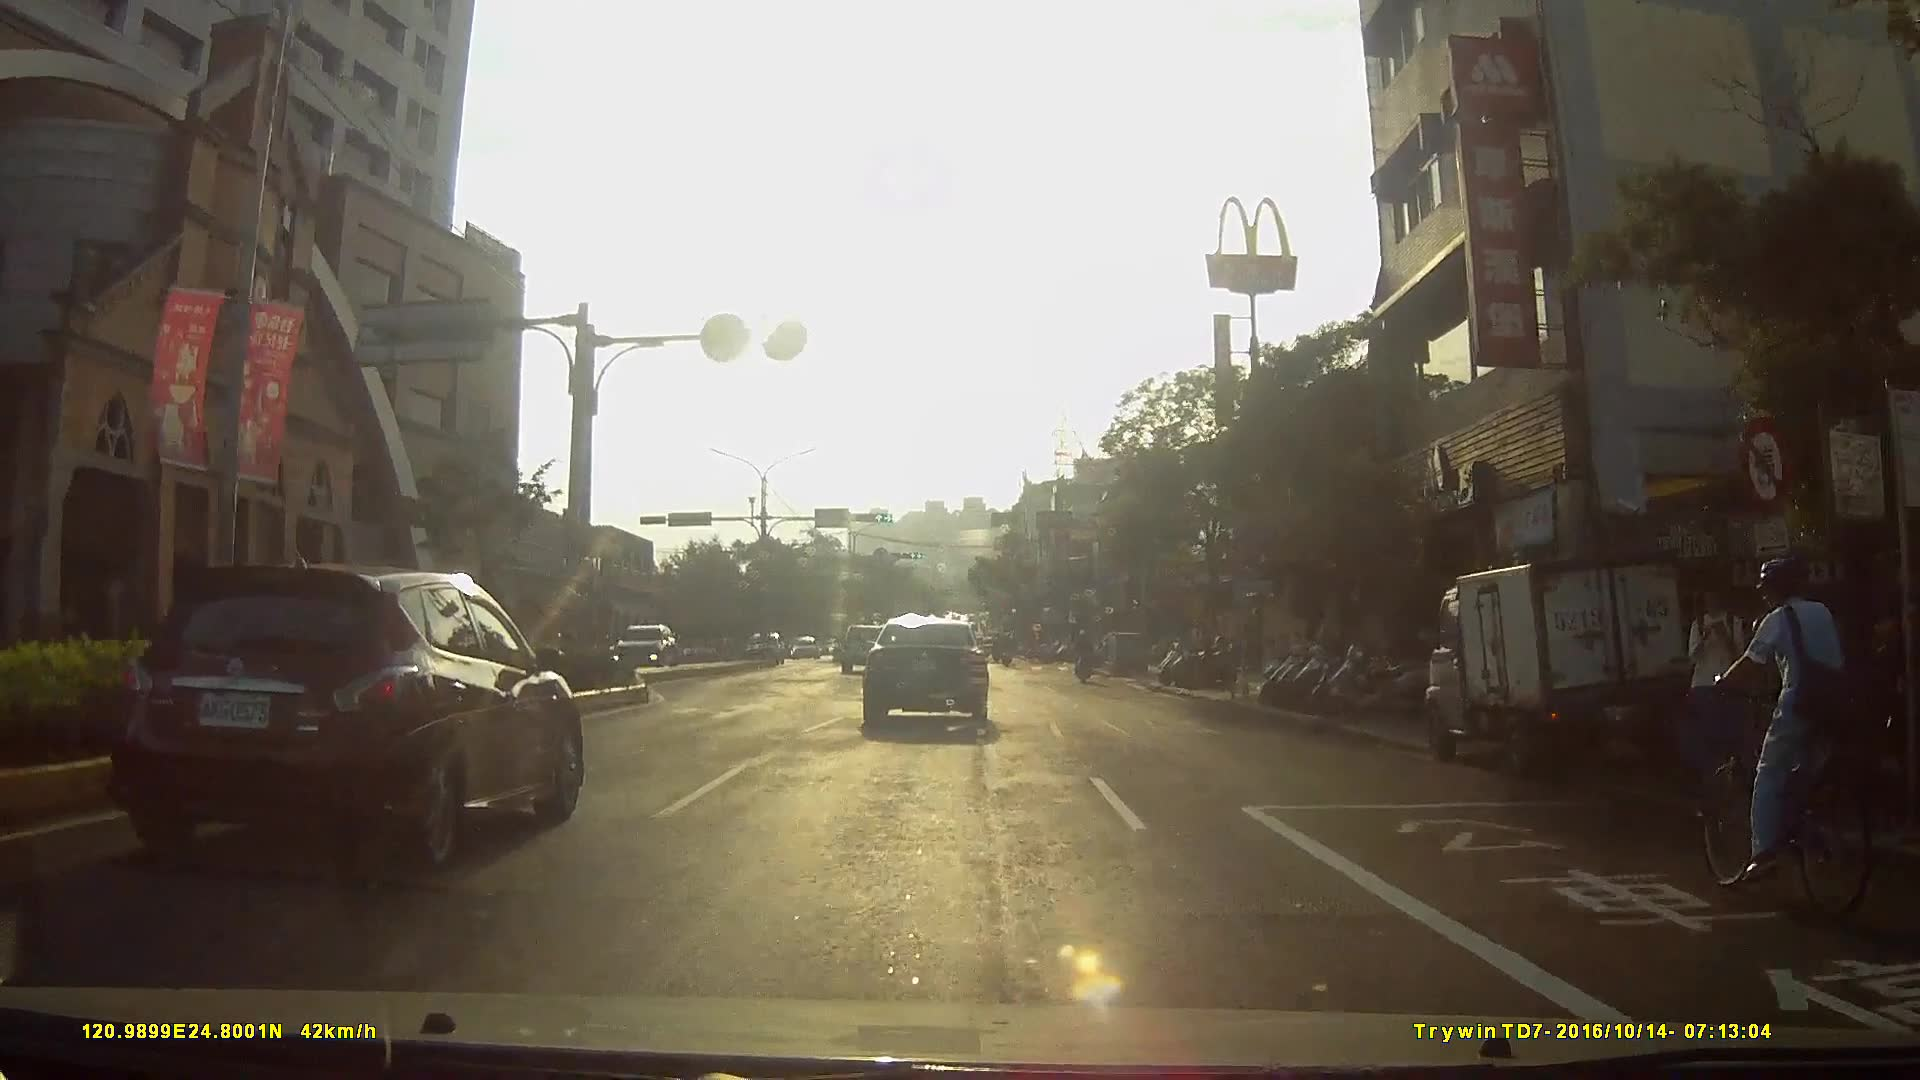pedestrian: (1684, 576, 1764, 804)
rider: (1697, 554, 1880, 913), (1073, 624, 1098, 684)
vehicle: (91, 556, 591, 867), (1409, 540, 1714, 774), (861, 611, 1003, 735), (599, 619, 679, 672), (837, 621, 896, 676), (730, 627, 777, 664), (783, 631, 830, 661)
